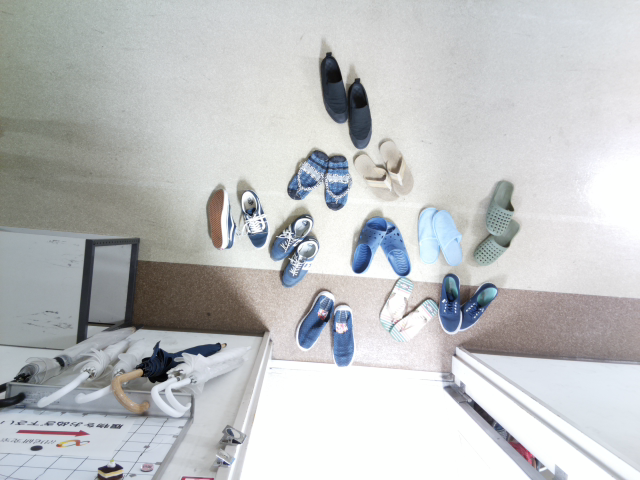Copy of Copy of Copy of Copy of Copy of Copy of Copy of Copy of Copy of Copy of: (313, 46, 357, 130), (467, 209, 526, 271), (348, 143, 404, 206), (386, 293, 445, 351), (429, 202, 474, 276), (341, 72, 381, 151), (374, 134, 422, 197), (455, 277, 504, 338), (375, 270, 419, 336), (409, 203, 448, 277), (479, 174, 517, 246), (430, 270, 471, 335)
Copy of Copy of Copy of Copy of Copy of Copy of Copy of Copy of Copy of shoe: (373, 213, 418, 284)
Copy of Copy of Copy of Copy of Copy of Copy of Copy of Copy of shoe: (345, 208, 392, 277)
Copy of Copy of Copy of Copy of Copy of Copy of Copy of shoe: (316, 149, 357, 212)
Copy of Copy of Copy of Copy of Copy of Copy of shoe: (281, 141, 331, 202)
Copy of Copy of Copy of Copy of Copy of shoe: (267, 208, 317, 260)
Copy of Copy of Copy of Copy of shoe: (277, 235, 322, 291)
Copy of Copy of Copy of shoe: (321, 301, 361, 373)
Copy of Copy of shoe: (288, 286, 336, 351)
Copy of shoe: (233, 183, 275, 251)
shoe: (197, 178, 238, 251)
